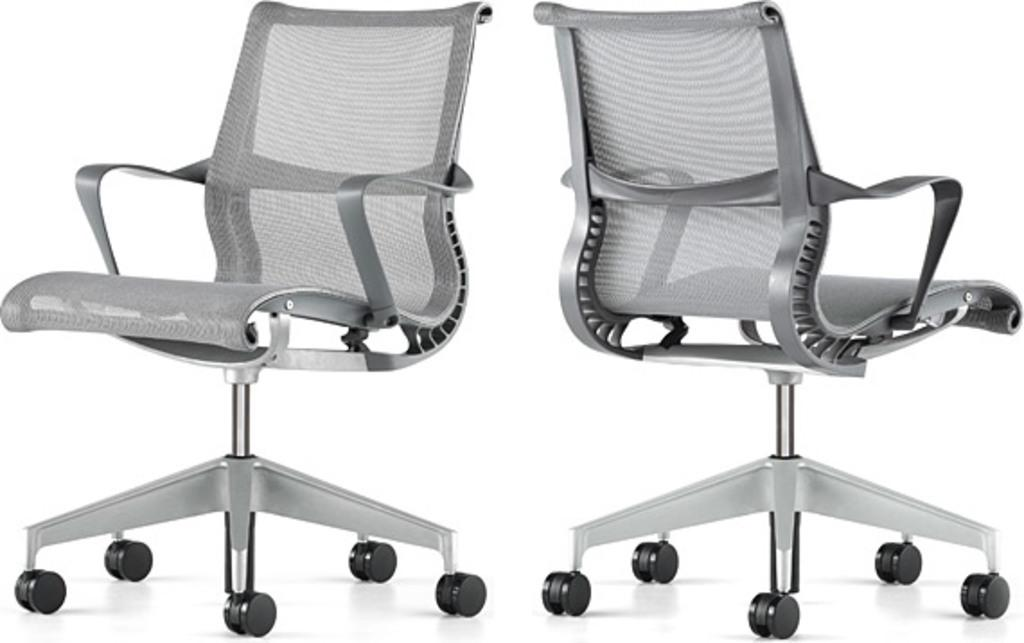Chair: (0, 4, 494, 639), (539, 0, 1022, 639)
